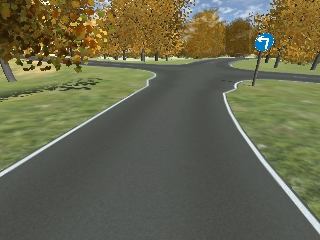left: (253, 31, 274, 52)
